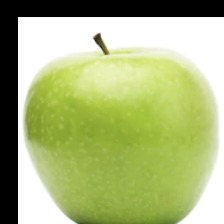apple: (25, 32, 214, 185)
